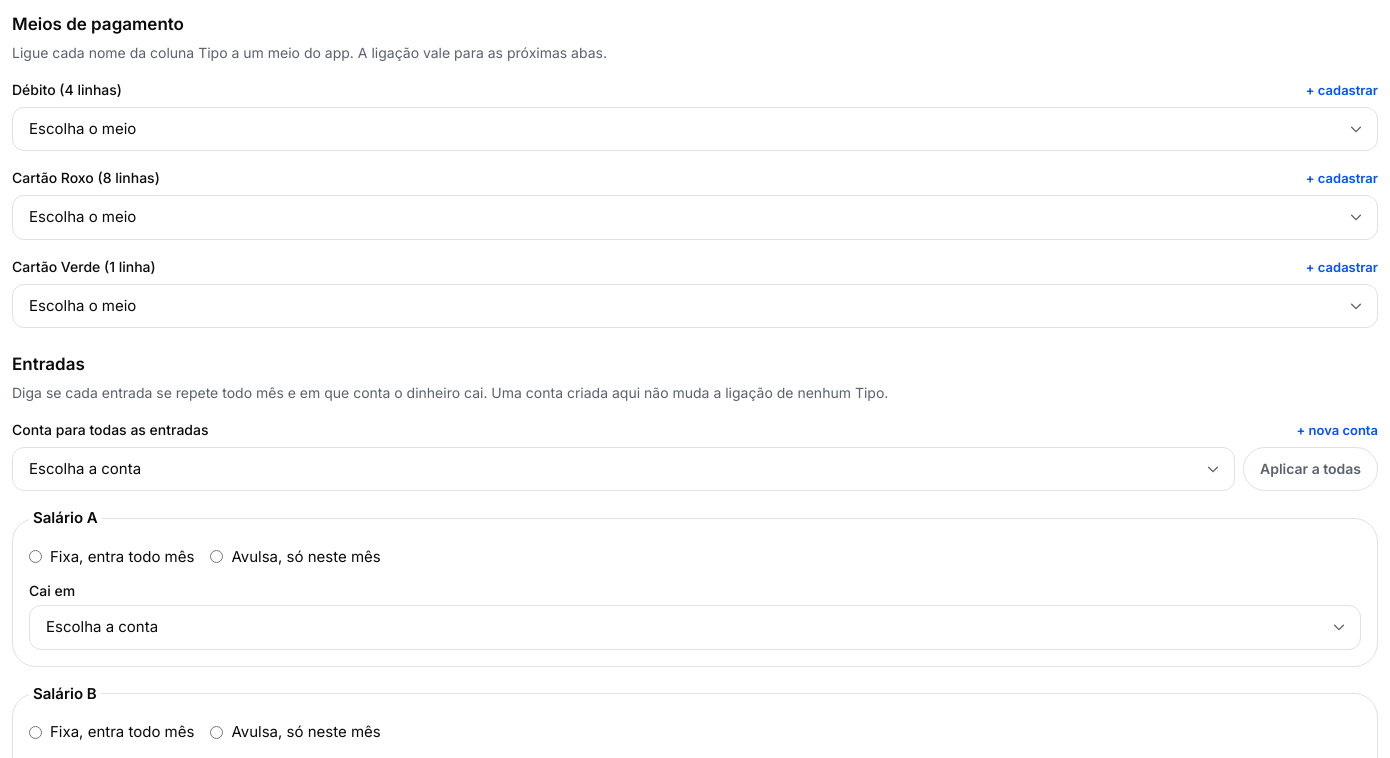
Test: PassoPendencias — uma conta nova sem passar por um Tipo (IMP-04, AC 10) › a conta criada aparece em todo "Cai em", fica escolhida para todas, e nenhum Tipo muda
Click the button "+ nova conta": [1337, 430] box [1296,418,1378,442]
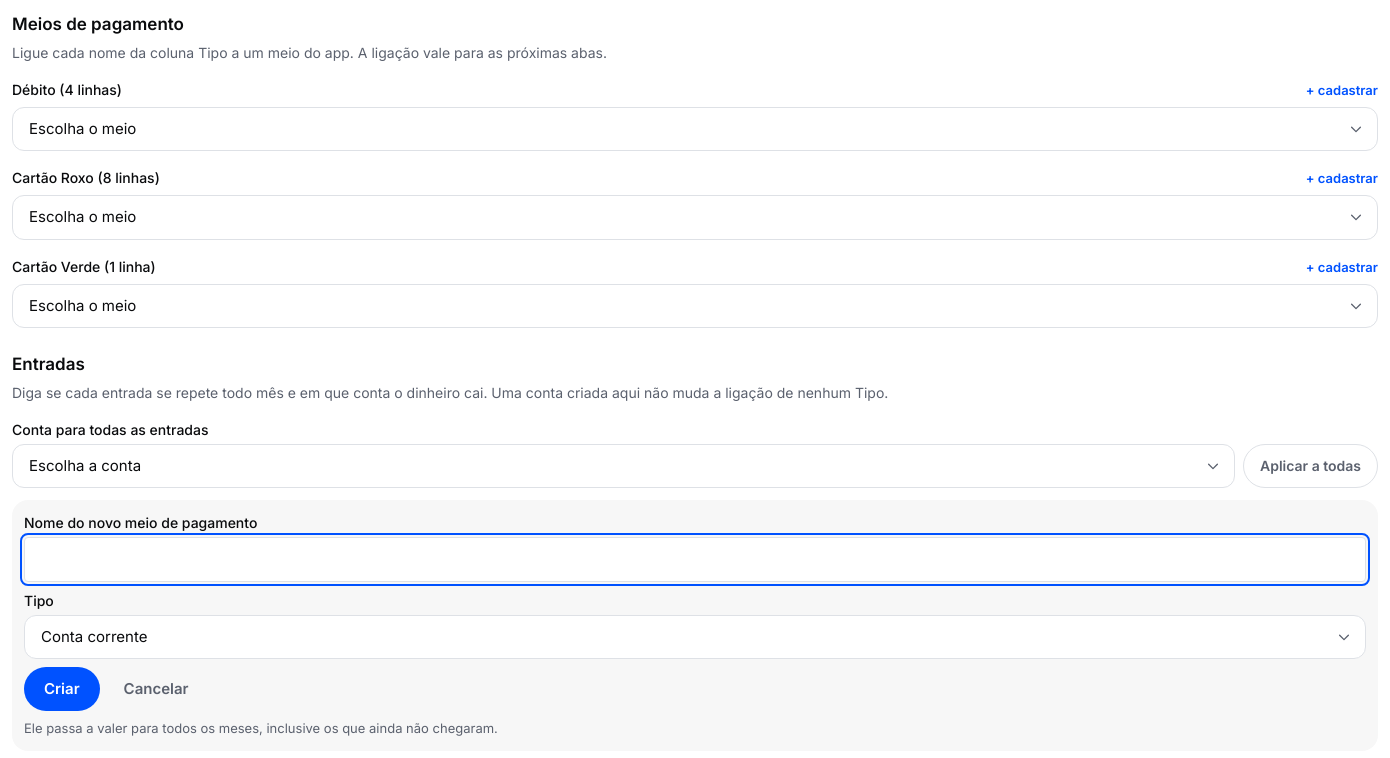
In the field labelled "Nome do novo meio de pagamento": [695, 559] box [24,537,1366,582], type "Conta Nova"
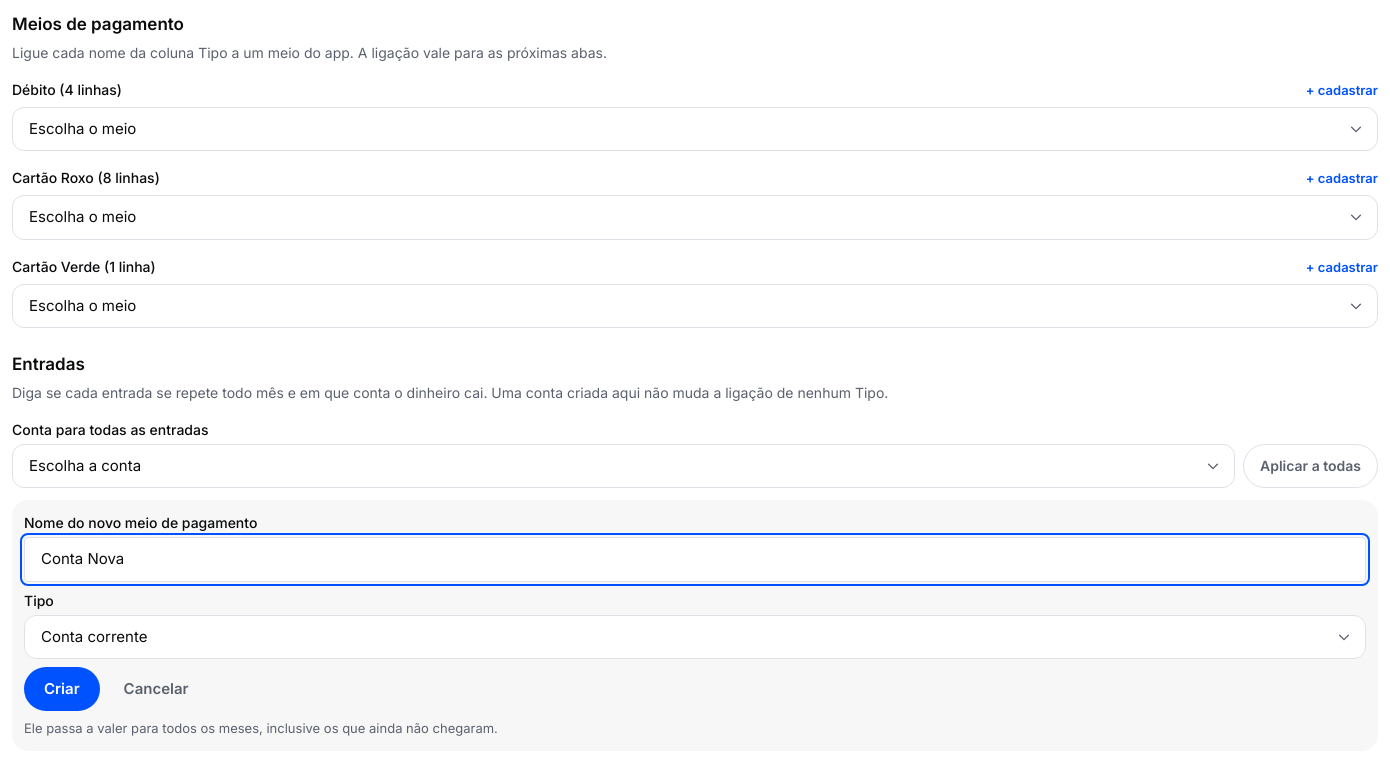
Click the button "Criar": [62, 689] box [24,667,100,711]
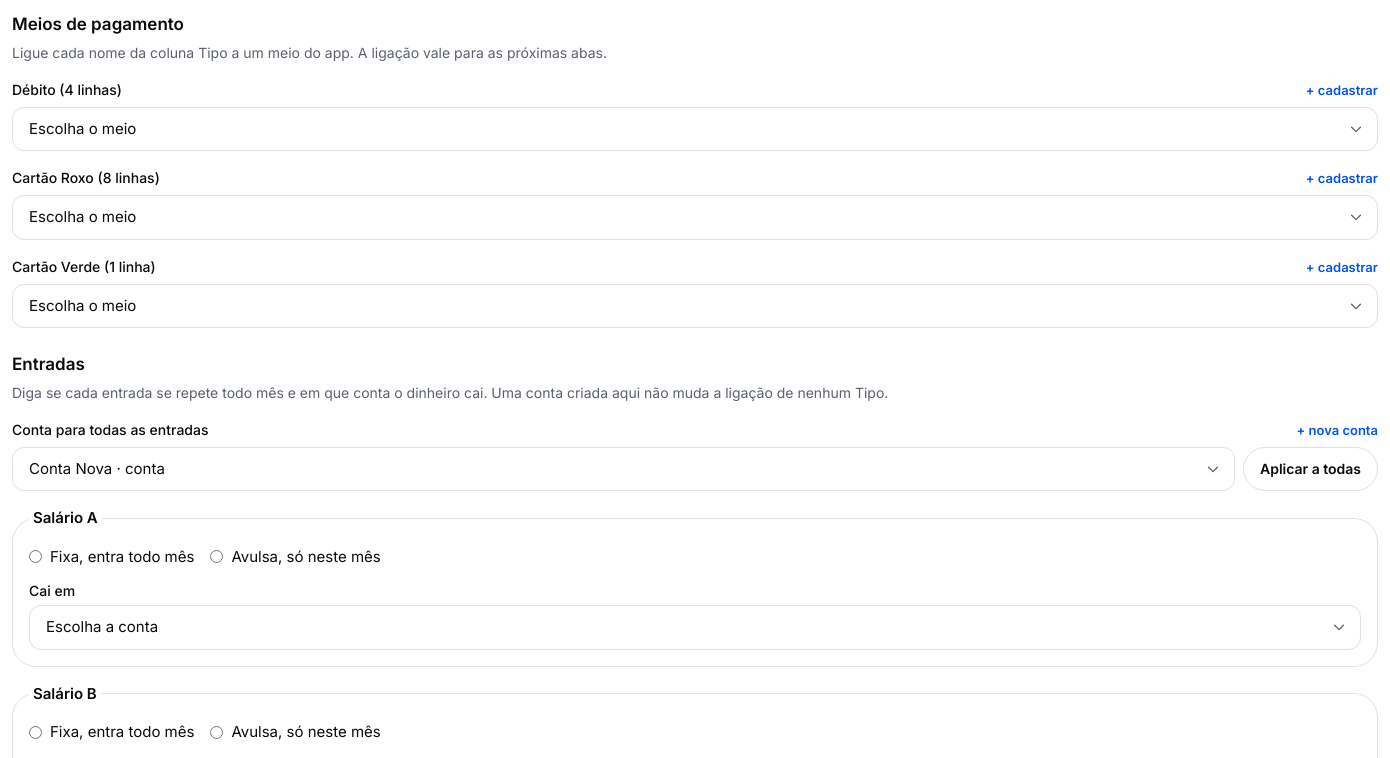
Expected: the dropdown labelled "Cai em" shows "Escolha a conta", [29,605,1361,650]
Expected: the dropdown labelled "Conta para todas as entradas" shows "Conta Nova · conta", [12,446,1235,491]
